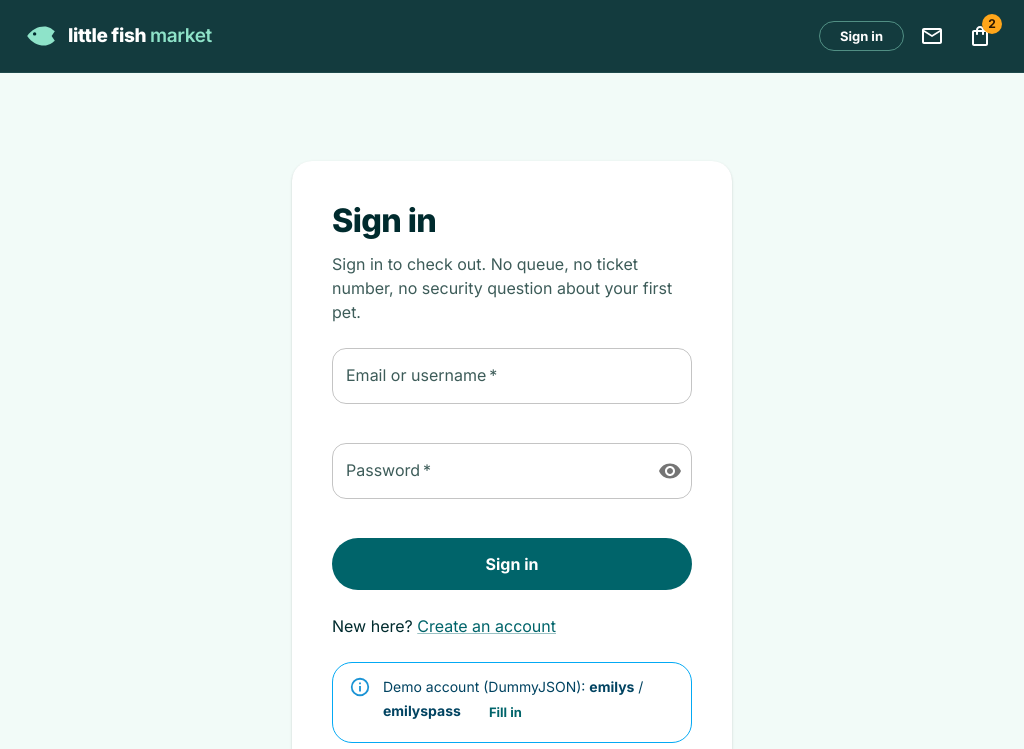
Test: Authentication and checkout (integration) › redirects to sign-in, then back to checkout after logging in
Expected: the heading "Sign in" is shown, 332,201 -> 436,240
Click the button "Fill in" at (505, 713), box 469,697 -> 542,728
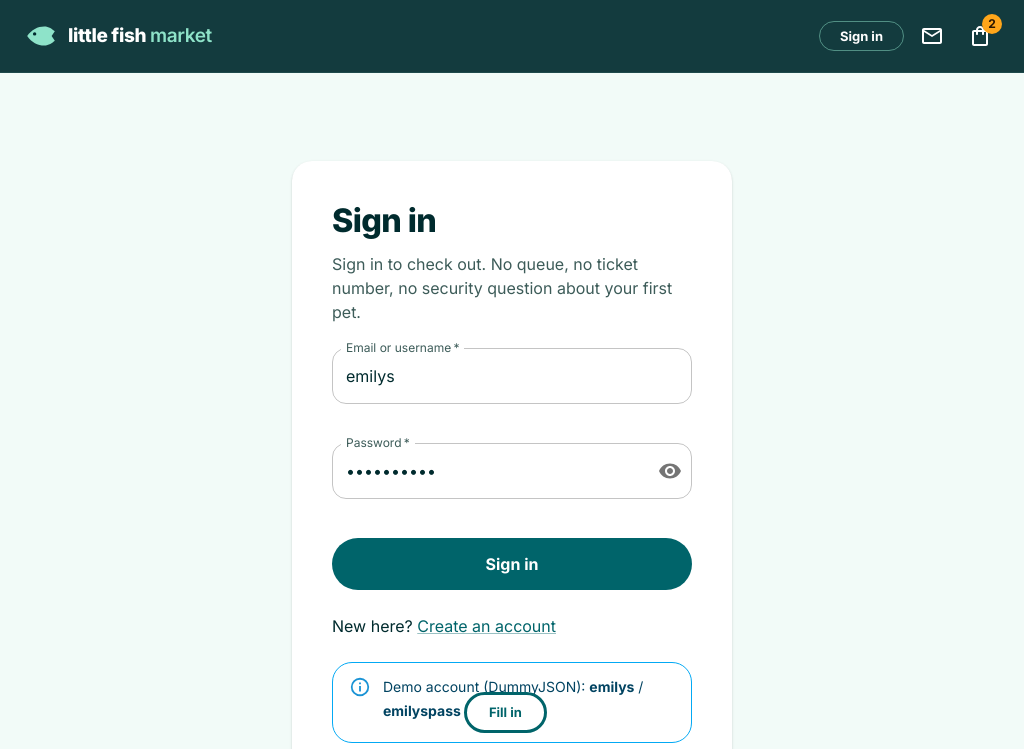
Click the button "Sign in" at (512, 564), box 332,538 -> 692,590
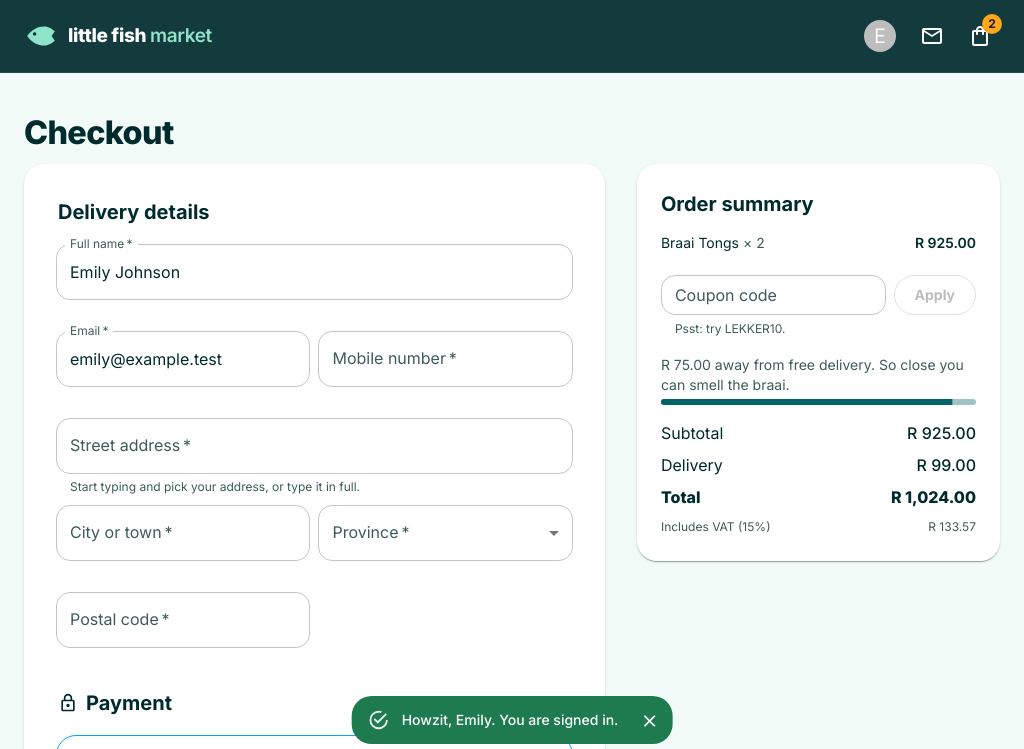
Expected: the heading "Checkout" is shown, 24,113 -> 174,152
Expected: the field labelled "Full name *" holds "Emily Johnson", 56,244 -> 573,300
